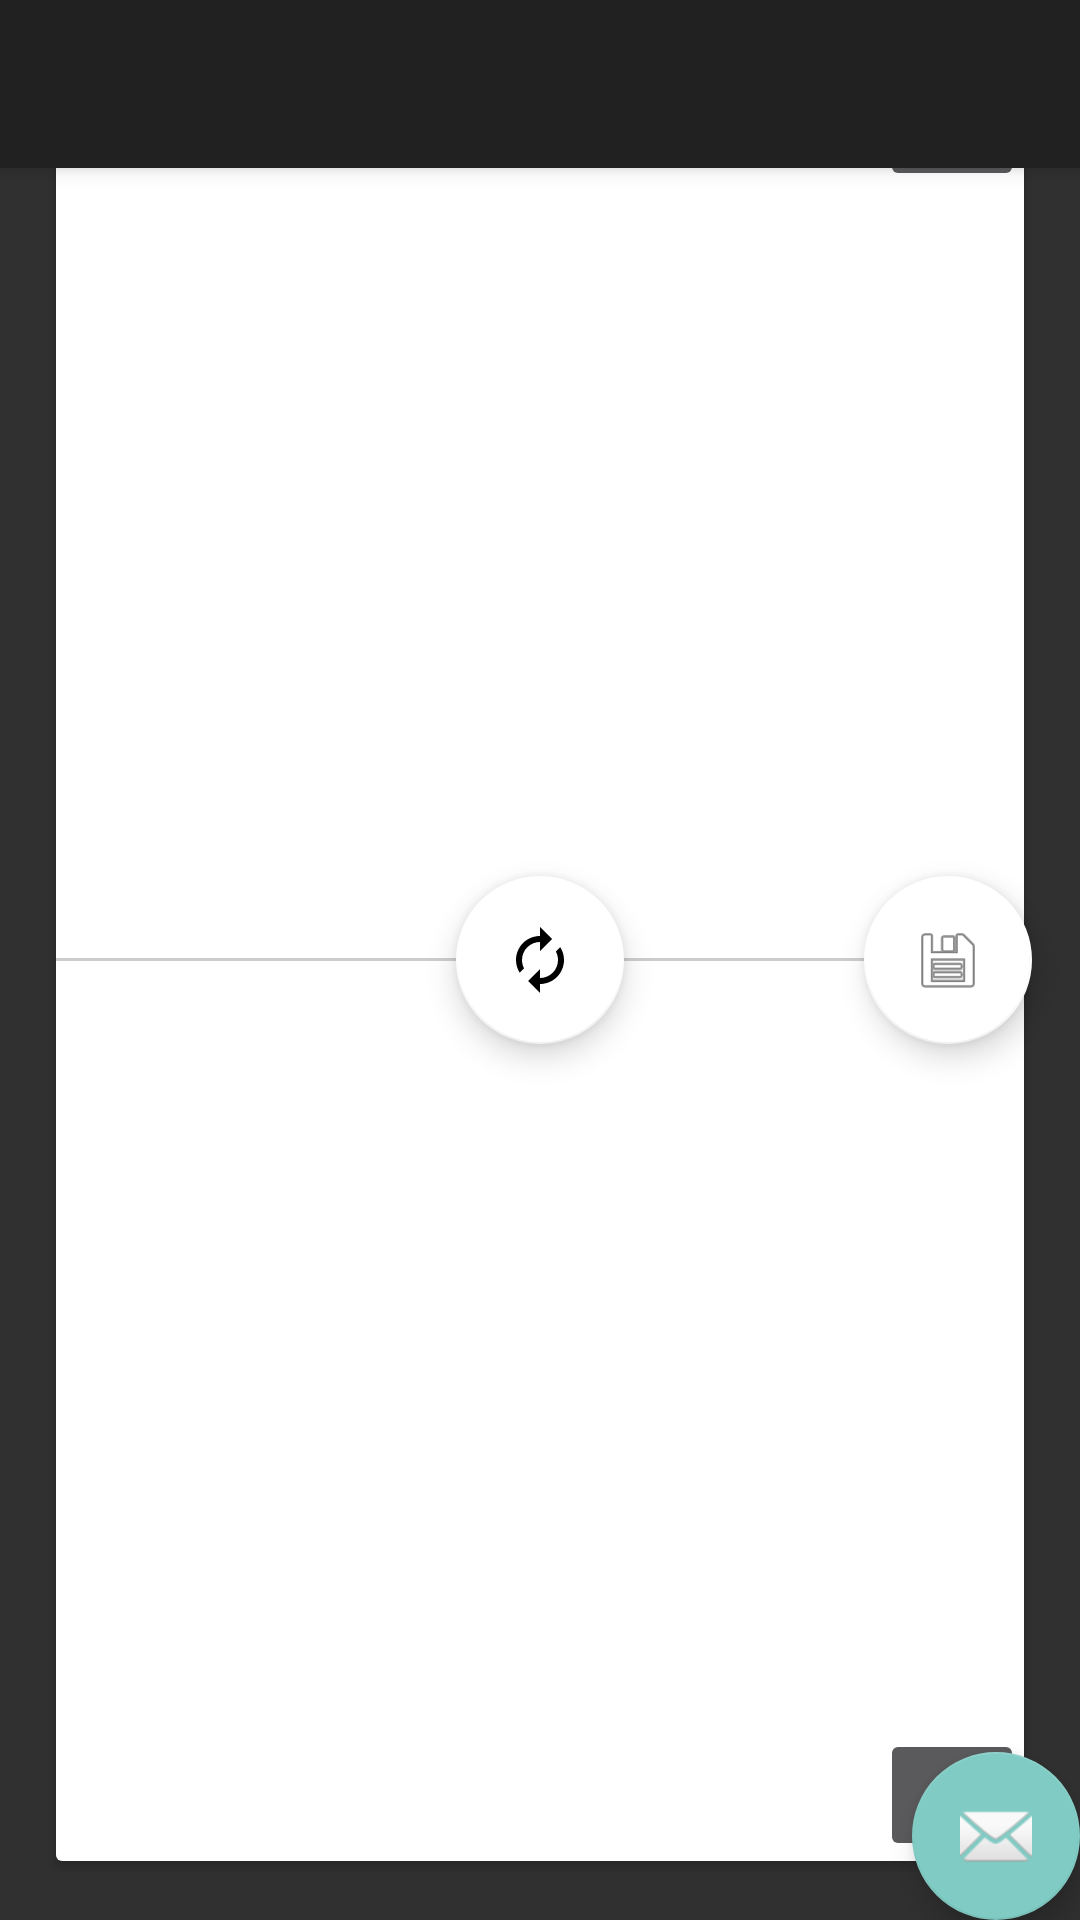

Icon click points for this 1080×1920 phone screenshot, format (x,y):
renew: (540,960)
